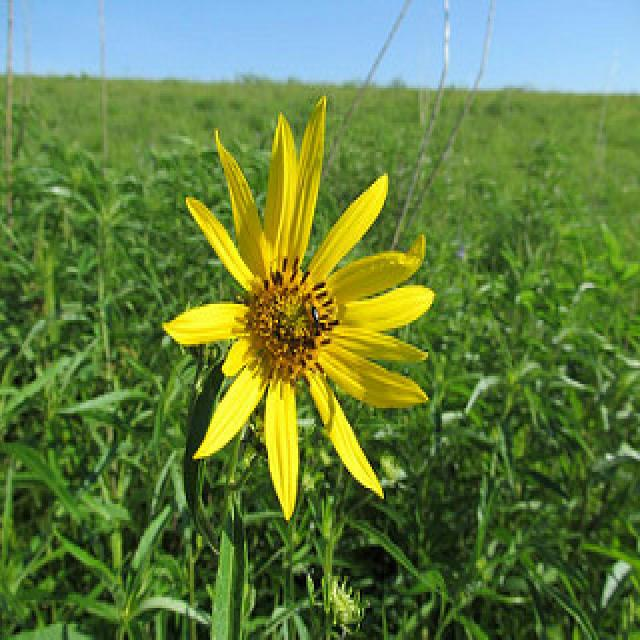sunflower: (176, 132, 424, 492)
